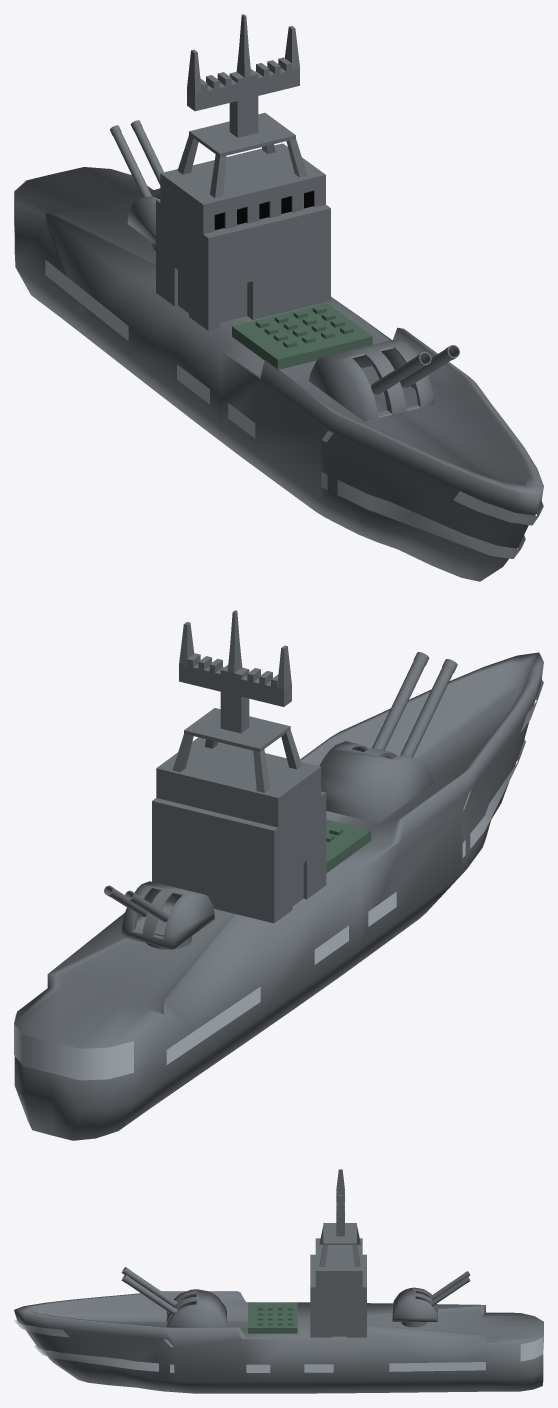
File: destroyer.glb
3 renders of one model, top to bottom at view 1: azimuth 30°, elevation 25°; view 2: azimuth 150°, elevation 25°; view 3: azimuth 270°, elevation 25°, orthographic. The views are drawn at different scales.
Parts seen in each view (by area): view 1: deck, Cube, Cube.001, body rim, Cube.002, Circle, Circle.001, Cylinder, Cylinder.002, Cylinder.001; view 2: deck, Cube, Cube.001, body rim, Circle, Circle.001, Cube.002, Cylinder.001, Cylinder; view 3: deck, Cube, body rim, Circle, Cube.002, Cube.001, Circle.001, Cylinder.001, Cylinder.
Boxes of the visible parts, left/top/right/bottom form: deck: left=14, top=167, right=543, bottom=581; Cube: left=156, top=143, right=330, bottom=330; Cube.001: left=177, top=14, right=307, bottom=198; body rim: left=14, top=180, right=543, bottom=558; Cube.002: left=232, top=303, right=372, bottom=369; Circle: left=309, top=339, right=434, bottom=421; Circle.001: left=127, top=194, right=160, bottom=244; Cylinder: left=371, top=352, right=431, bottom=394; Cylinder.002: left=110, top=125, right=151, bottom=197; Cylinder.001: left=400, top=345, right=459, bottom=387; deck: left=14, top=652, right=543, bottom=1140; Cube: left=152, top=737, right=326, bottom=923; Cube.001: left=172, top=610, right=301, bottom=792; body rim: left=14, top=679, right=543, bottom=1080; Circle: left=319, top=741, right=433, bottom=823; Circle.001: left=121, top=881, right=214, bottom=949; Cube.002: left=326, top=819, right=371, bottom=873; Cylinder.001: left=372, top=652, right=429, bottom=750; Cylinder: left=400, top=659, right=457, bottom=757; deck: left=14, top=1291, right=543, bottom=1393; Cube: left=310, top=1238, right=366, bottom=1337; body rim: left=14, top=1317, right=543, bottom=1372; Circle: left=166, top=1289, right=226, bottom=1327; Cube.002: left=248, top=1302, right=297, bottom=1333; Cube.001: left=319, top=1169, right=360, bottom=1266; Circle.001: left=392, top=1287, right=437, bottom=1321; Cylinder.001: left=121, top=1274, right=177, bottom=1314; Cylinder: left=121, top=1267, right=177, bottom=1306.
Size of the model in its own units: 0.8227 by 2.17 by 4.93.
